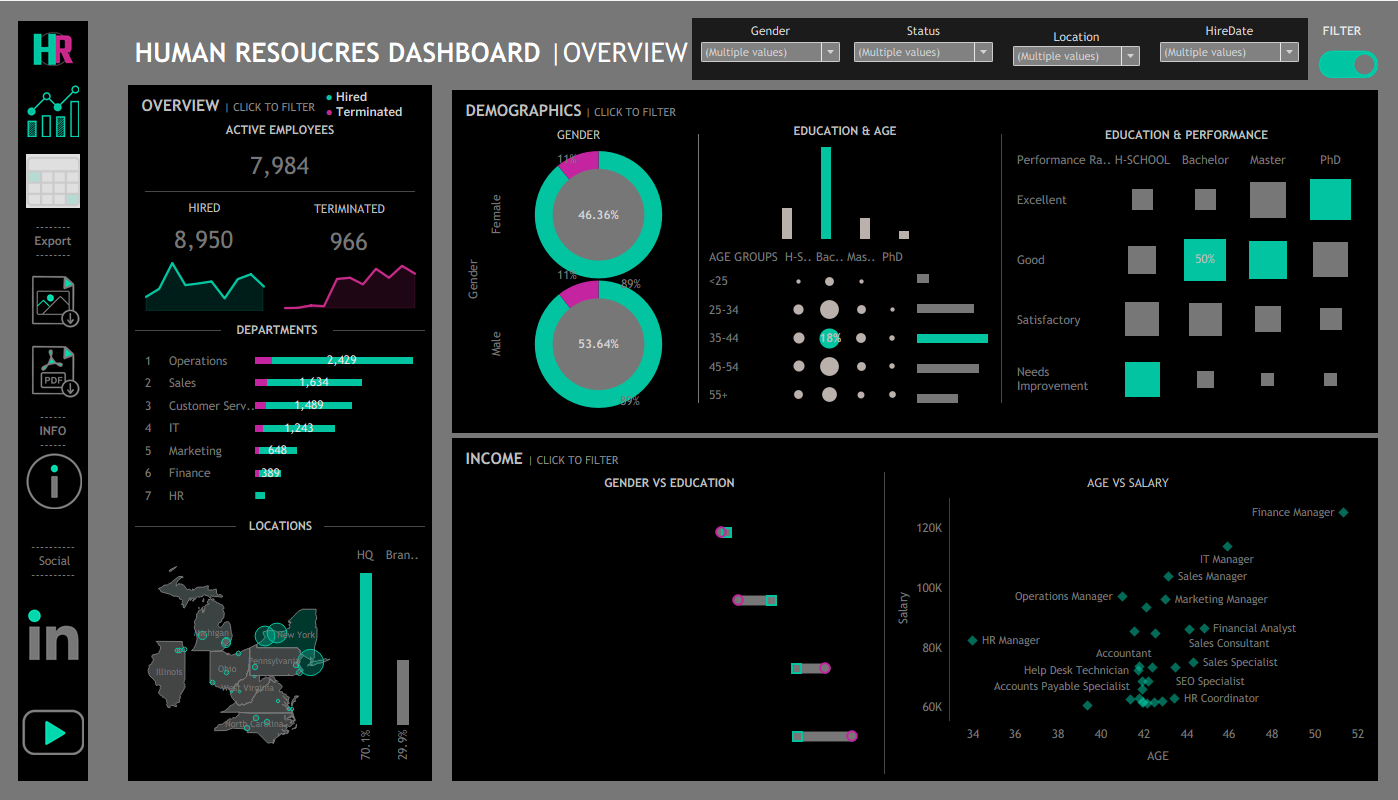

This screenshot's page, from the dashboard's own definition file:
{"tool":"tableau","page":{"name":"HR SUMMARY","canvas":[1400,800],"ordinal":0},"visuals":[{"type":"blank","box":[92,0,1297,278]},{"type":"text","box":[1294,15,100,30]},{"type":"filter","title":"GENDER VS EDUCATION","param":"[federated.0876k0h10evg7j1cw4b421mjiwnx].[none:Gender:nk]","box":[696,19,153,58]},{"type":"filter","title":"GENDER VS EDUCATION","param":"[federated.0876k0h10evg7j1cw4b421mjiwnx].[none:Calculation_0277950584246272:nk]","box":[849,19,153,58]},{"type":"filter","title":"GENDER VS EDUCATION","param":"[federated.0876k0h10evg7j1cw4b421mjiwnx].[none:Calculation_0635566379425800:nk]","box":[1002,19,153,58]},{"type":"filter","title":"GENDER VS EDUCATION","param":"[federated.0876k0h10evg7j1cw4b421mjiwnx].[yr:Hiredate:ok]","box":[1155,19,153,58]},{"type":"image","param":"C:/Users/LENOVO/Downloads/hr-dashboard-project/images/Logo.png","box":[20,20,70,55]},{"type":"text","box":[130,20,685,64]},{"type":"blank","box":[815,20,565,64]},{"type":"dashboard-object","box":[1316,49,68,28]},{"type":"dashboard-object","box":[20,75,70,70]},{"type":"text","box":[325,89,100,32]},{"type":"text","box":[137,91,290,27]},{"type":"text","box":[461,96,912,27]},{"type":"text","box":[137,118,290,22]},{"type":"text","box":[461,123,239,22]},{"type":"blank","box":[700,123,1,289]},{"type":"text","box":[701,123,297,14]},{"type":"blank","box":[1003,123,1,289]},{"type":"text","box":[1009,123,359,22]},{"type":"worksheet","title":"EDUCATION LEVEL","mark":"Bar","rows":["Calculation_0635566352019456"],"cols":["Education Level"],"box":[701,137,297,105]},{"type":"worksheet","title":"BAN ACTIVE","mark":"Text","box":[137,140,290,50]},{"type":"dashboard-object","box":[20,145,70,70]},{"type":"worksheet","title":"Gender","mark":"Pie","rows":["Gender"],"cols":["Calculation_0635566420394000","Calculation_0635566420394000"],"box":[461,145,239,267]},{"type":"worksheet","title":"EDUCATION VS PERFORMANCE","mark":"Square","rows":["Performance Rating"],"cols":["Education Level"],"box":[1009,145,359,267]},{"type":"blank","box":[137,190,290,1]},{"type":"text","box":[137,191,139,32]},{"type":"text","box":[276,191,151,33.1]},{"type":"text","box":[20,215,70,50]},{"type":"worksheet","title":"BAN HIRED","mark":"Text","box":[137,223,139,31]},{"type":"worksheet","title":"BAN TERMINATED","mark":"Text","box":[276,224.1,151,33.1]},{"type":"worksheet","title":"AGE VS EDUCATION","mark":"Circle","rows":["Calculation_0635566424391698"],"cols":["Education Level"],"box":[701,242,214,170]},{"type":"worksheet","title":"AGE GROUPS","mark":"Bar","rows":["Calculation_0635566424391698"],"cols":["Calculation_0635566352019456"],"box":[915,242,83,170]},{"type":"worksheet","title":"LINE CHART TH","mark":"Line","rows":["Calculation_0635566352019456","Calculation_0635566352019456"],"cols":["Hiredate"],"box":[137,254,139,60]},{"type":"worksheet","title":"LINE CHART TT","mark":"Line","rows":["Calculation_0635566352183297","Calculation_0635566352183297"],"cols":["Termdate"],"box":[276,257.2,151,56.8]},{"type":"dashboard-object","box":[20,265,70,70]},{"type":"text","box":[92,278,1297,211]},{"type":"blank","box":[137,314,86,30]},{"type":"text","box":[223,314,112,30]},{"type":"blank","box":[335,314,92,30]},{"type":"dashboard-object","box":[20,335,70,70]},{"type":"worksheet","title":"DEPT-BAR CHART","mark":"Bar","rows":["Calculation_0635566377623556","Department"],"cols":["Calculation_0635566352019456"],"box":[137,344,290,166]},{"type":"text","box":[20,405,70,50]},{"type":"text","box":[461,444,912,27]},{"type":"dashboard-object","box":[28,451,56,58]},{"type":"blank","box":[20,455,70,79.7]},{"type":"text","box":[461,471,421.5,22]},{"type":"blank","box":[886.5,471,1,302]},{"type":"text","box":[887.5,471,485.5,22]},{"type":"blank","box":[92,489,1297,311]},{"type":"worksheet","title":"GENDER VS EDUCATION","mark":"Line","rows":["Education Level"],"cols":["Salary","Salary"],"box":[461,493,421.5,280]},{"type":"worksheet","title":"AGE VS SALARY","mark":"Shape","rows":["Salary"],"cols":["Calculation_0635566423949329"],"box":[887.5,493,485.5,280]},{"type":"blank","box":[137,510,100.7,30]},{"type":"text","box":[237.7,510,88.7,30]},{"type":"blank","box":[326.3,510,100.7,30]},{"type":"text","box":[20,534.7,70,50]},{"type":"worksheet","title":"MAP STATE","mark":"Automatic","box":[137,540,208.1,228]},{"type":"worksheet","title":"Location-Bar Chart","mark":"Bar","rows":["Calculation_0635566352019456"],"cols":["Calculation_0635566379425800","Calculation_0635566352019456"],"box":[345.1,540,81.8,228]},{"type":"image","param":"C:/Users/LENOVO/Downloads/hr-dashboard-project/images/contact-linkedin.png","box":[20,584.7,70,97.7]},{"type":"image","param":"C:/Users/LENOVO/Downloads/hr-dashboard-project/images/contact-channel.png","box":[20,682.3,70,97.7]}]}

Visuals, with their boxes in screenshot pixels (x1, y1, x2, y2), scaled from the page's 1400x800 canvas onto the 1398x800 screenshot:
blank: {"x1": 92, "y1": 0, "x2": 1387, "y2": 278}
text: {"x1": 1292, "y1": 15, "x2": 1392, "y2": 45}
"GENDER VS EDUCATION" filter: {"x1": 695, "y1": 19, "x2": 848, "y2": 77}
"GENDER VS EDUCATION" filter: {"x1": 848, "y1": 19, "x2": 1001, "y2": 77}
"GENDER VS EDUCATION" filter: {"x1": 1001, "y1": 19, "x2": 1153, "y2": 77}
"GENDER VS EDUCATION" filter: {"x1": 1153, "y1": 19, "x2": 1306, "y2": 77}
image: {"x1": 20, "y1": 20, "x2": 90, "y2": 75}
text: {"x1": 130, "y1": 20, "x2": 814, "y2": 84}
blank: {"x1": 814, "y1": 20, "x2": 1378, "y2": 84}
dashboard-object: {"x1": 1314, "y1": 49, "x2": 1382, "y2": 77}
dashboard-object: {"x1": 20, "y1": 75, "x2": 90, "y2": 145}
text: {"x1": 325, "y1": 89, "x2": 424, "y2": 121}
text: {"x1": 137, "y1": 91, "x2": 426, "y2": 118}
text: {"x1": 460, "y1": 96, "x2": 1371, "y2": 123}
text: {"x1": 137, "y1": 118, "x2": 426, "y2": 140}
text: {"x1": 460, "y1": 123, "x2": 699, "y2": 145}
blank: {"x1": 699, "y1": 123, "x2": 700, "y2": 412}
text: {"x1": 700, "y1": 123, "x2": 997, "y2": 137}
blank: {"x1": 1002, "y1": 123, "x2": 1003, "y2": 412}
text: {"x1": 1008, "y1": 123, "x2": 1366, "y2": 145}
"EDUCATION LEVEL" worksheet (Bar marks): {"x1": 700, "y1": 137, "x2": 997, "y2": 242}
"BAN ACTIVE" worksheet (Text marks): {"x1": 137, "y1": 140, "x2": 426, "y2": 190}
dashboard-object: {"x1": 20, "y1": 145, "x2": 90, "y2": 215}
"Gender" worksheet (Pie marks): {"x1": 460, "y1": 145, "x2": 699, "y2": 412}
"EDUCATION VS PERFORMANCE" worksheet (Square marks): {"x1": 1008, "y1": 145, "x2": 1366, "y2": 412}
blank: {"x1": 137, "y1": 190, "x2": 426, "y2": 191}
text: {"x1": 137, "y1": 191, "x2": 276, "y2": 223}
text: {"x1": 276, "y1": 191, "x2": 426, "y2": 224}
text: {"x1": 20, "y1": 215, "x2": 90, "y2": 265}
"BAN HIRED" worksheet (Text marks): {"x1": 137, "y1": 223, "x2": 276, "y2": 254}
"BAN TERMINATED" worksheet (Text marks): {"x1": 276, "y1": 224, "x2": 426, "y2": 257}
"AGE VS EDUCATION" worksheet (Circle marks): {"x1": 700, "y1": 242, "x2": 914, "y2": 412}
"AGE GROUPS" worksheet (Bar marks): {"x1": 914, "y1": 242, "x2": 997, "y2": 412}
"LINE CHART TH" worksheet (Line marks): {"x1": 137, "y1": 254, "x2": 276, "y2": 314}
"LINE CHART TT" worksheet (Line marks): {"x1": 276, "y1": 257, "x2": 426, "y2": 314}
dashboard-object: {"x1": 20, "y1": 265, "x2": 90, "y2": 335}
text: {"x1": 92, "y1": 278, "x2": 1387, "y2": 489}
blank: {"x1": 137, "y1": 314, "x2": 223, "y2": 344}
text: {"x1": 223, "y1": 314, "x2": 335, "y2": 344}
blank: {"x1": 335, "y1": 314, "x2": 426, "y2": 344}
dashboard-object: {"x1": 20, "y1": 335, "x2": 90, "y2": 405}
"DEPT-BAR CHART" worksheet (Bar marks): {"x1": 137, "y1": 344, "x2": 426, "y2": 510}
text: {"x1": 20, "y1": 405, "x2": 90, "y2": 455}
text: {"x1": 460, "y1": 444, "x2": 1371, "y2": 471}
dashboard-object: {"x1": 28, "y1": 451, "x2": 84, "y2": 509}
blank: {"x1": 20, "y1": 455, "x2": 90, "y2": 535}
text: {"x1": 460, "y1": 471, "x2": 881, "y2": 493}
blank: {"x1": 885, "y1": 471, "x2": 886, "y2": 773}
text: {"x1": 886, "y1": 471, "x2": 1371, "y2": 493}
blank: {"x1": 92, "y1": 489, "x2": 1387, "y2": 799}
"GENDER VS EDUCATION" worksheet (Line marks): {"x1": 460, "y1": 493, "x2": 881, "y2": 773}
"AGE VS SALARY" worksheet (Shape marks): {"x1": 886, "y1": 493, "x2": 1371, "y2": 773}
blank: {"x1": 137, "y1": 510, "x2": 237, "y2": 540}
text: {"x1": 237, "y1": 510, "x2": 326, "y2": 540}
blank: {"x1": 326, "y1": 510, "x2": 426, "y2": 540}
text: {"x1": 20, "y1": 535, "x2": 90, "y2": 585}
"MAP STATE" worksheet: {"x1": 137, "y1": 540, "x2": 345, "y2": 768}
"Location-Bar Chart" worksheet (Bar marks): {"x1": 345, "y1": 540, "x2": 426, "y2": 768}
image: {"x1": 20, "y1": 585, "x2": 90, "y2": 682}
image: {"x1": 20, "y1": 682, "x2": 90, "y2": 780}
